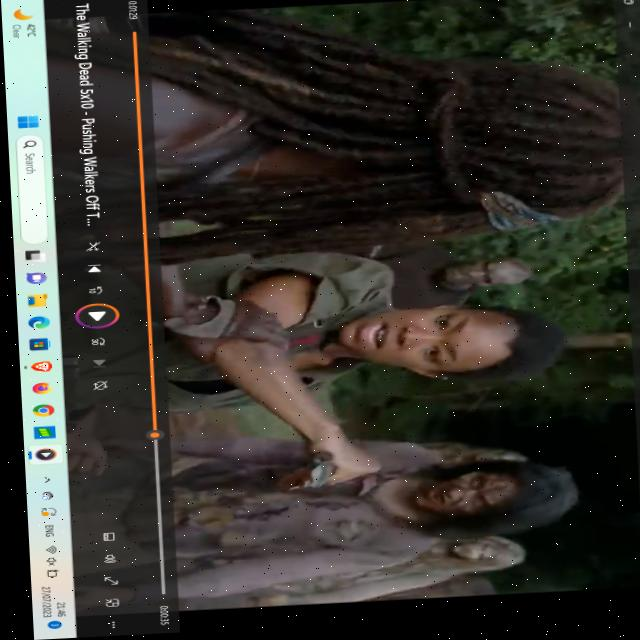Zombie: (406, 460, 569, 535), (430, 257, 531, 297), (436, 542, 523, 578)
human: (340, 306, 533, 379)
